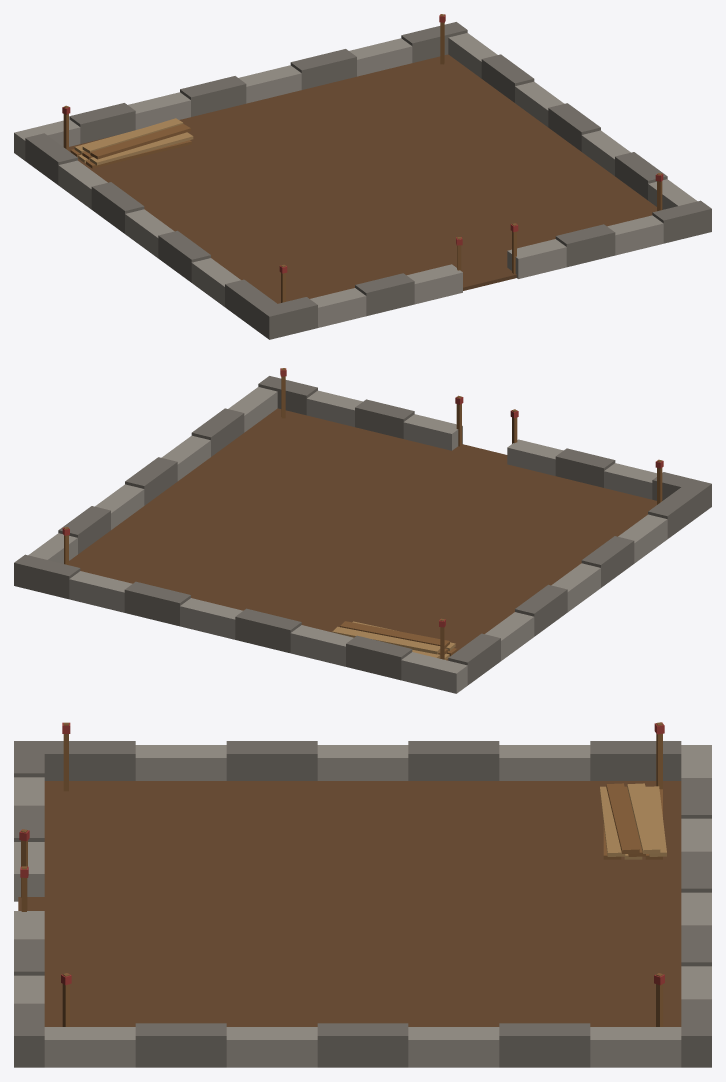
The model's file is site_8x8_1.glb.
3 views of the same model, one above another, from view 1: azimuth 30°, elevation 25°; view 2: azimuth 150°, elevation 25°; view 3: azimuth 270°, elevation 25° (orthographic). The views are drawn at different scales.
Visible parts, largest first — view 1: site_8x8_1; view 2: site_8x8_1; view 3: site_8x8_1.
Part boxes in pixels (left/top/right/bottom): site_8x8_1: left=14, top=14, right=711, bottom=339; site_8x8_1: left=14, top=368, right=711, bottom=693; site_8x8_1: left=14, top=722, right=711, bottom=1067.
Bounding box in the file's own units: 8 × 0.9 × 8.
